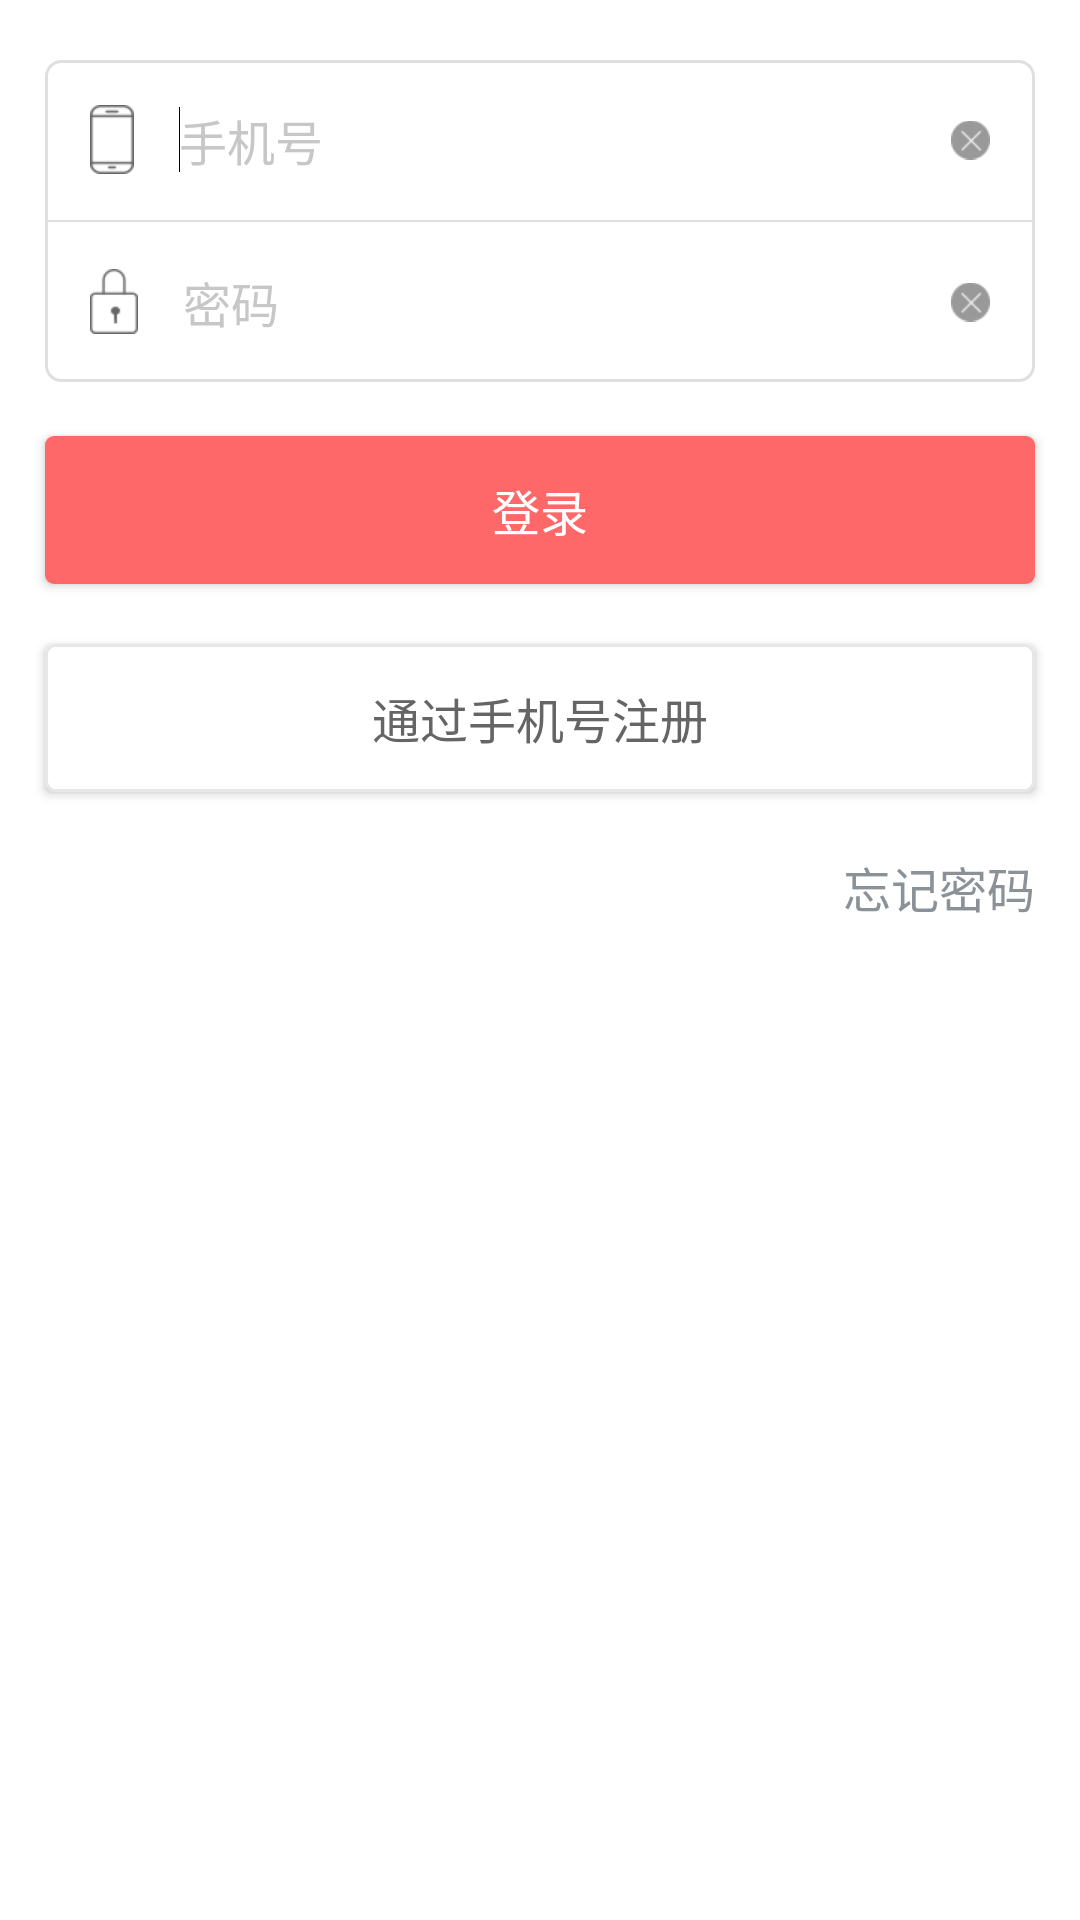

Screen size 1080x1920. Icon name, then its center in pixels as point (x, y):
delete: point (970, 140), point (970, 302)
login mobile: point (112, 139)
login password: point (114, 301)
